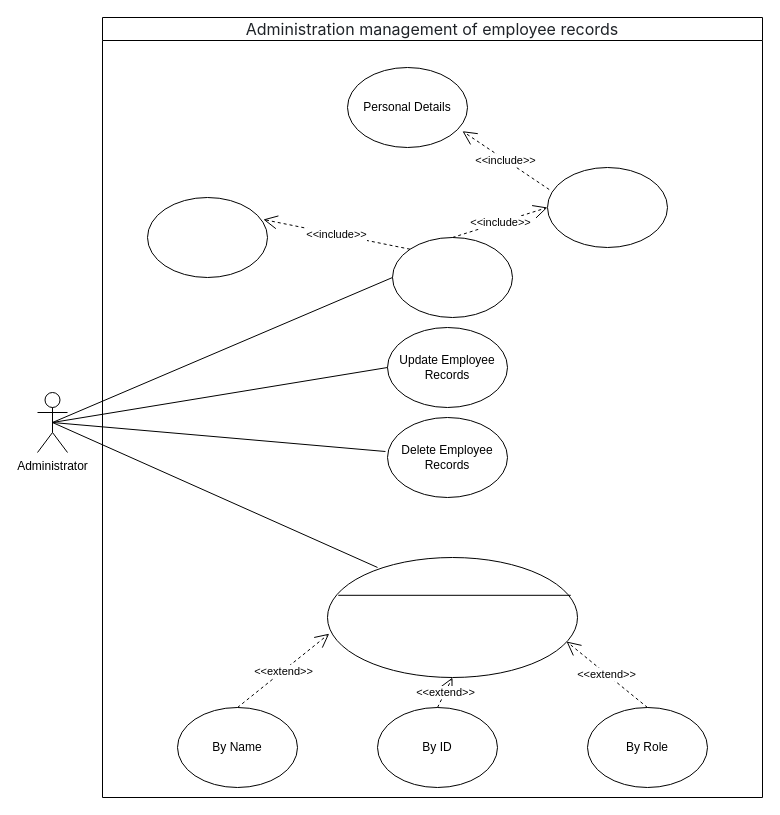
This 780x815 diagram has some shape labels left out. The shapes that lost their labels are listed below. From the top down, each one's centre as x and y in pixels, then its label:
At point 607,207: "Input Employee Information".
At point 207,237: "Manage Role".
At point 452,277: "Manage Employee Records".
At point 452,617: "Search Employee extension points -By Name -By ID -By Role".
